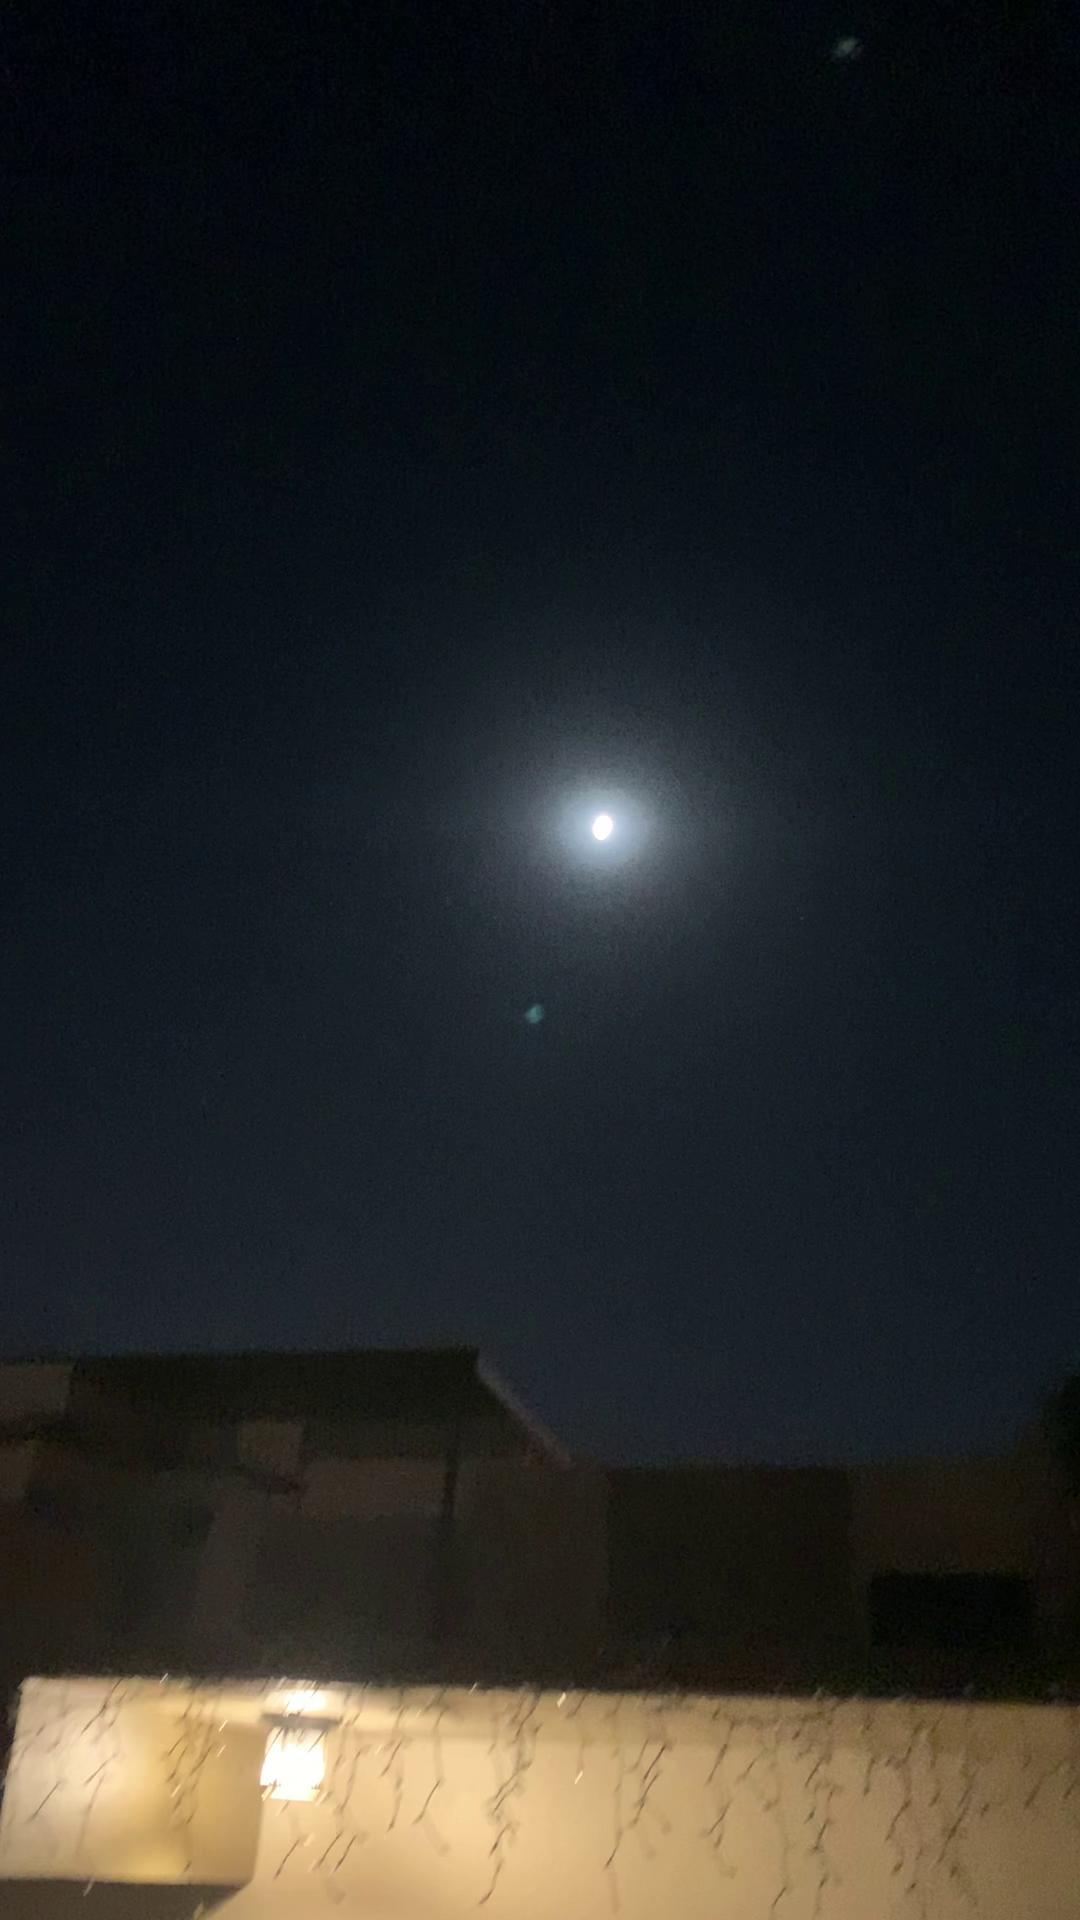moon: (566, 795, 653, 874)
